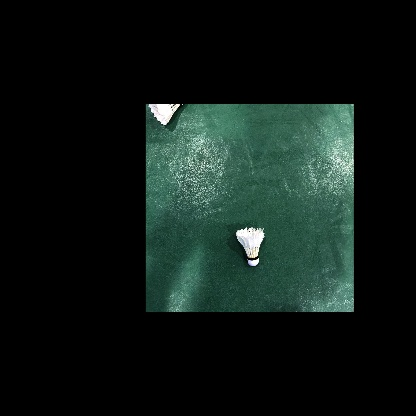ball_single: (236, 227, 264, 266), (148, 104, 184, 126)
